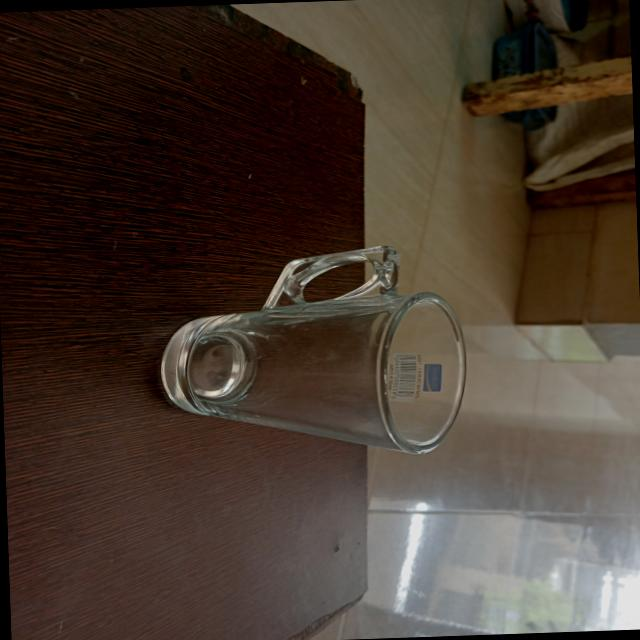glass-VX4N: (146, 238, 474, 464)
